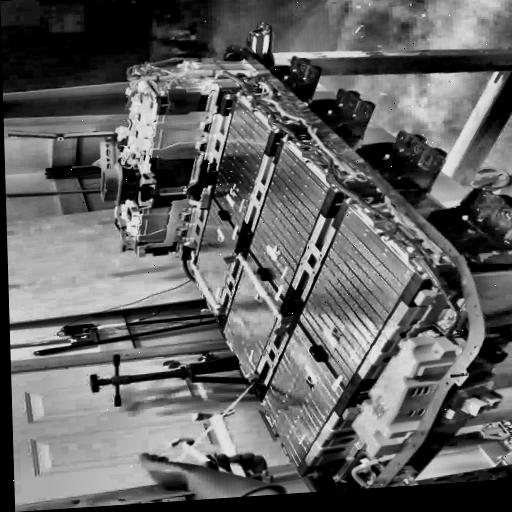battery_module: (298, 205, 415, 387), (249, 144, 329, 298), (261, 322, 344, 467), (212, 97, 272, 233), (223, 251, 283, 381), (193, 198, 239, 313)
busbar: (156, 399, 300, 480), (133, 183, 219, 256), (224, 251, 292, 336), (183, 241, 226, 315)
connector: (97, 157, 144, 208)
high_volt_cable: (125, 64, 447, 266)
low_volt_cable: (120, 52, 464, 357)
